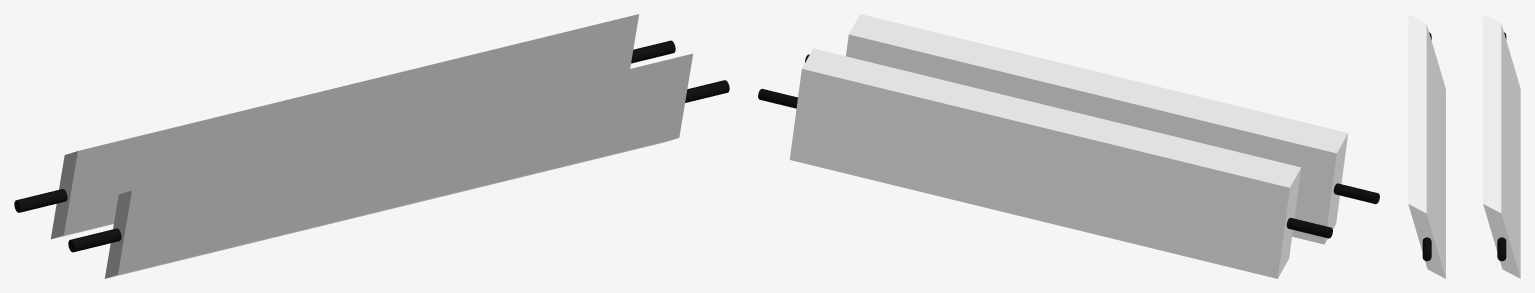
File: Fit_BaiYe_1X3_off.FBX
3 views of the same model, side by side, from view 1: azimuth 30°, elevation 25°; view 2: azimuth 150°, elevation 25°; view 3: azimuth 270°, elevation 25° (orthographic). The views are drawn at different scales.
Parts seen in each view (by area): view 1: Box002; view 2: Box002; view 3: Box002.
Part boxes in pixels (left/top/right/bottom): Box002: left=14, top=14, right=729, bottom=278; Box002: left=758, top=14, right=1379, bottom=278; Box002: left=1408, top=14, right=1520, bottom=278.
Bounding box in the file's own units: 3.5 × 0.5537 × 0.7519.
